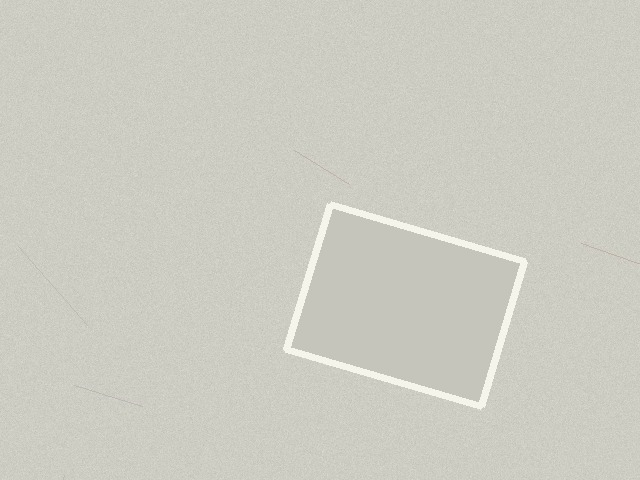parking_area: (286, 204, 524, 406)
